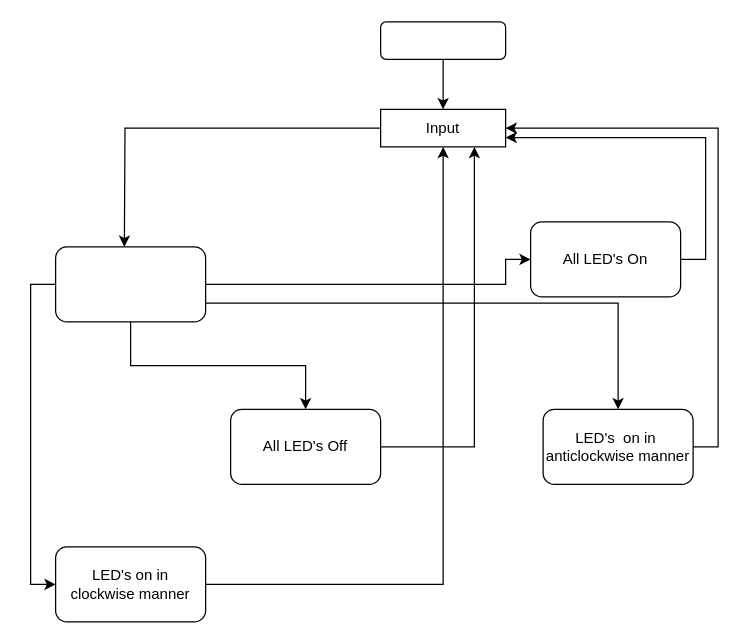
This 750x644 diagram has some shape labels left out. Here are the shapes that lost their labels. From the top down, the box of each, then its label:
(379, 21, 506, 59): User
(54, 246, 206, 322): If button is Pressed by user 1/2/3/4 times then..
